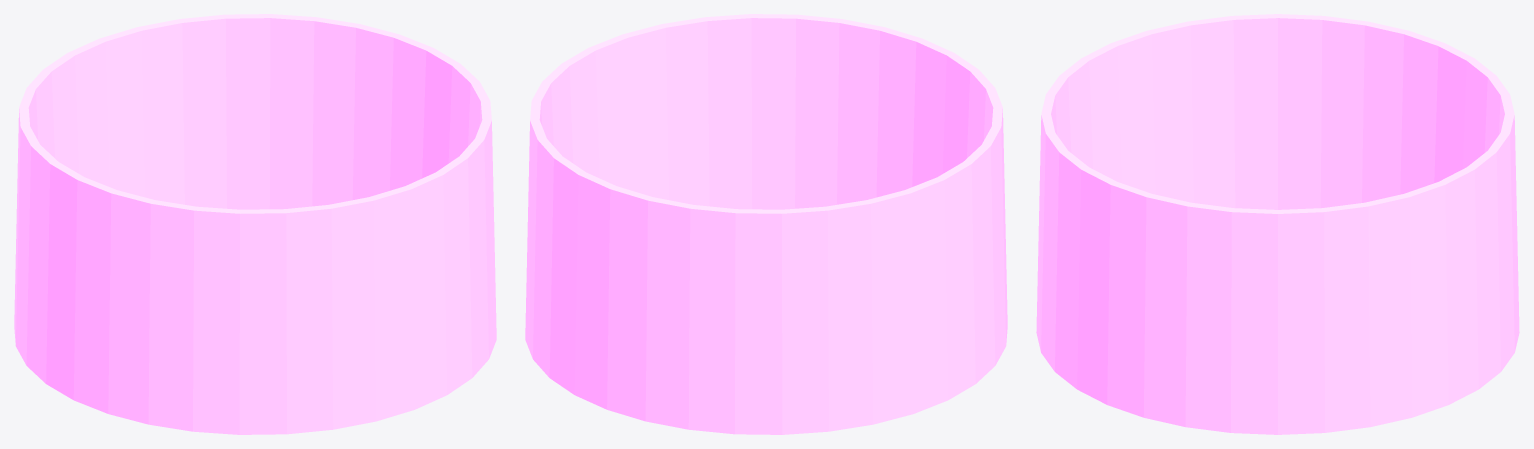
File: shockwave.glb
The picture shows the model from 3 angles, left to right: view 1: azimuth 30°, elevation 25°; view 2: azimuth 150°, elevation 25°; view 3: azimuth 270°, elevation 25°; orthographic projection.
Visible parts, largest first — view 1: shockwave; view 2: shockwave; view 3: shockwave.
Part boxes in pixels (box(x1,y1,x2,y2)): shockwave: box(14, 14, 496, 434); shockwave: box(525, 14, 1007, 434); shockwave: box(1036, 14, 1519, 434).
Size of the model in its own units: 2 by 1 by 2.
